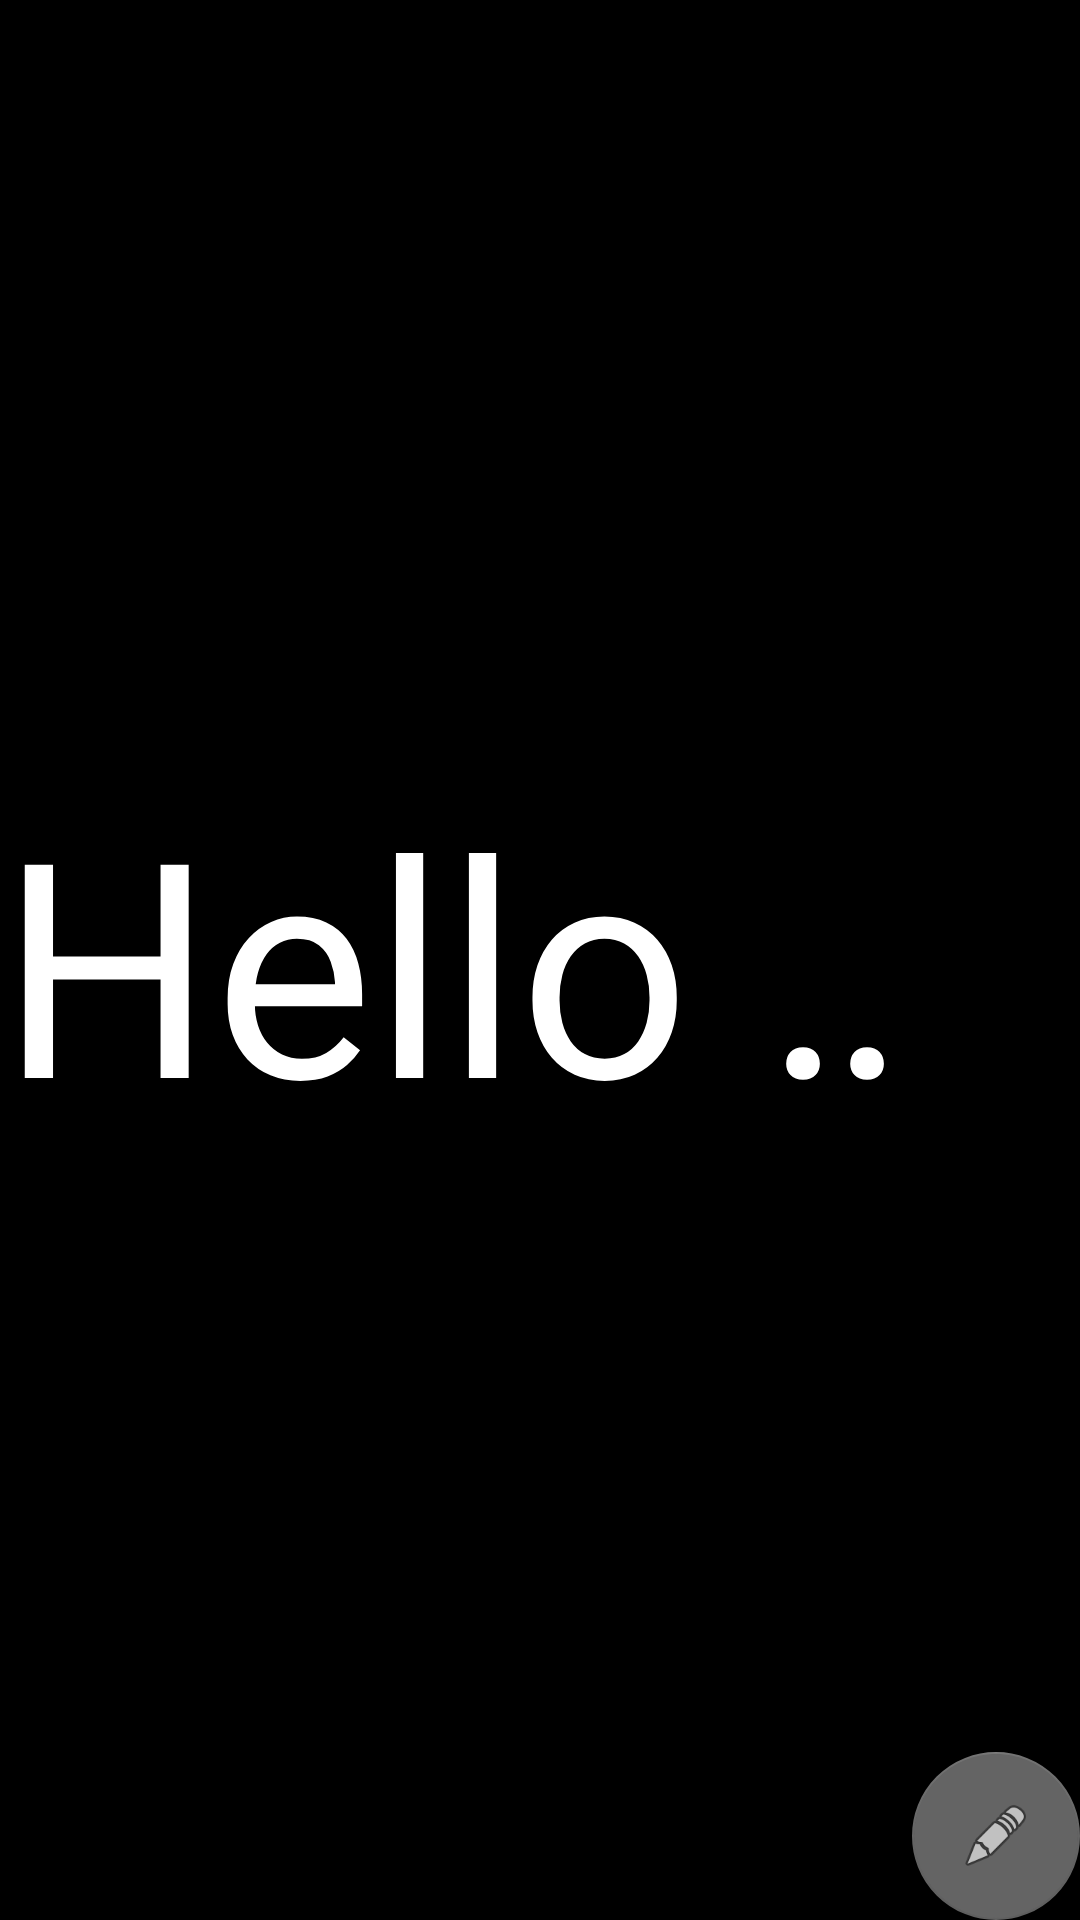

Screen size 1080 × 1920. Icon name, then its box in pixels as (x1, y1, x2, y2):
edit: (912, 1752, 1080, 1920)
